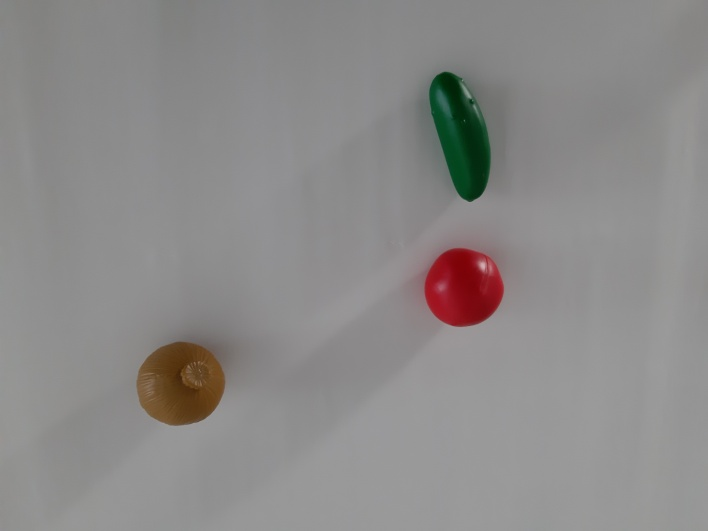cucumber: (412, 57, 513, 218)
onion: (128, 328, 235, 435)
tomato: (404, 233, 523, 339)
